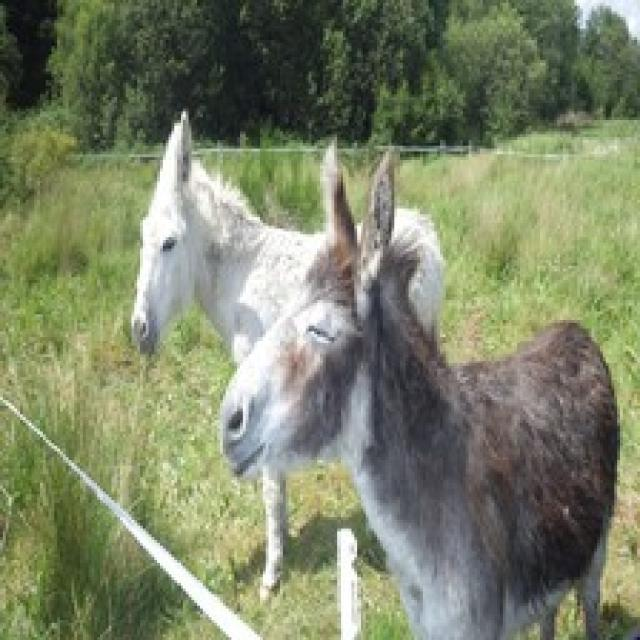Donkey: (217, 185, 640, 640), (108, 118, 395, 640)
